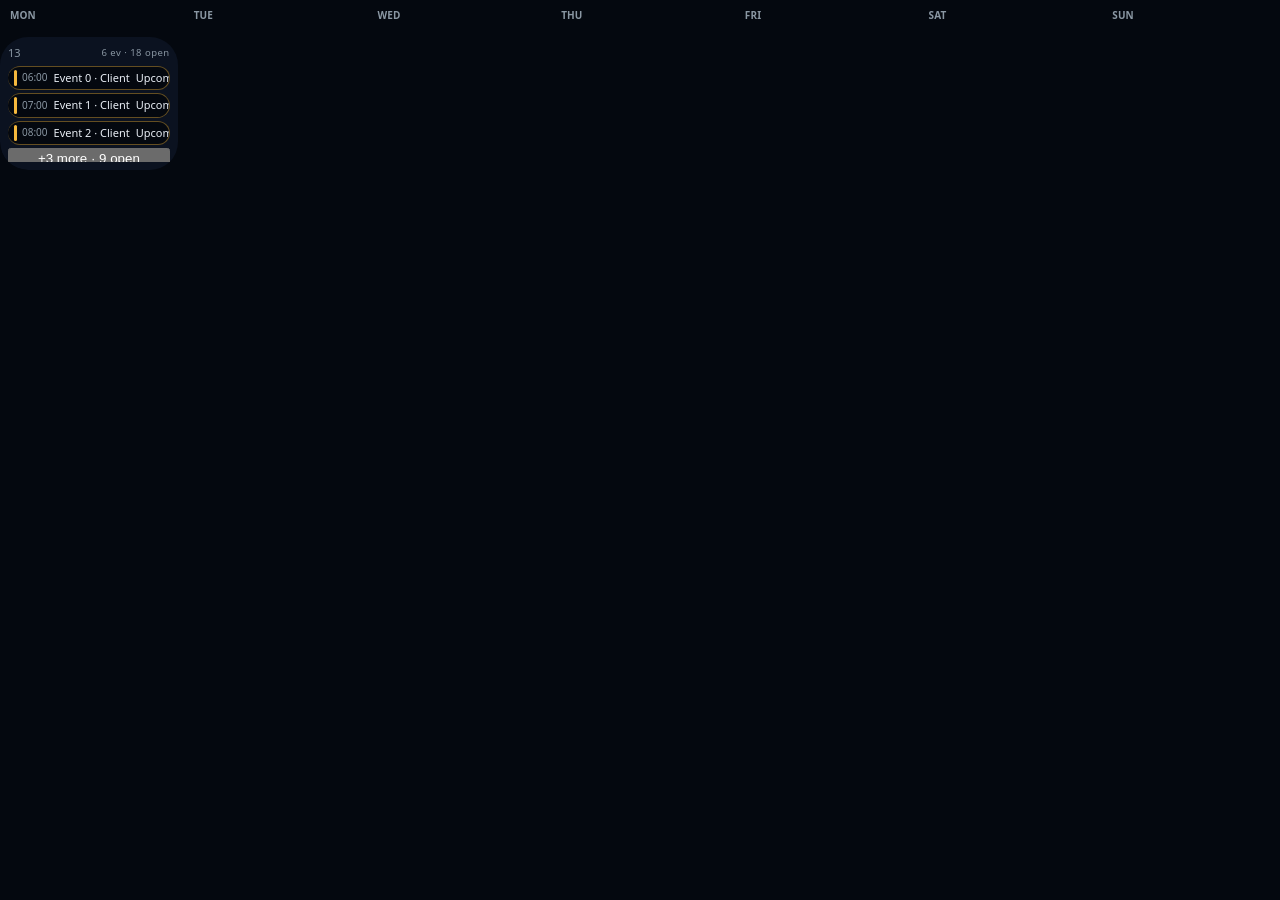
Test case: the day popup (ADR-0096) › with no day link offered, still lists the day and offers only Close
Click the button with class "evmore" at [89, 158], box left=8, top=148, right=170, bottom=169
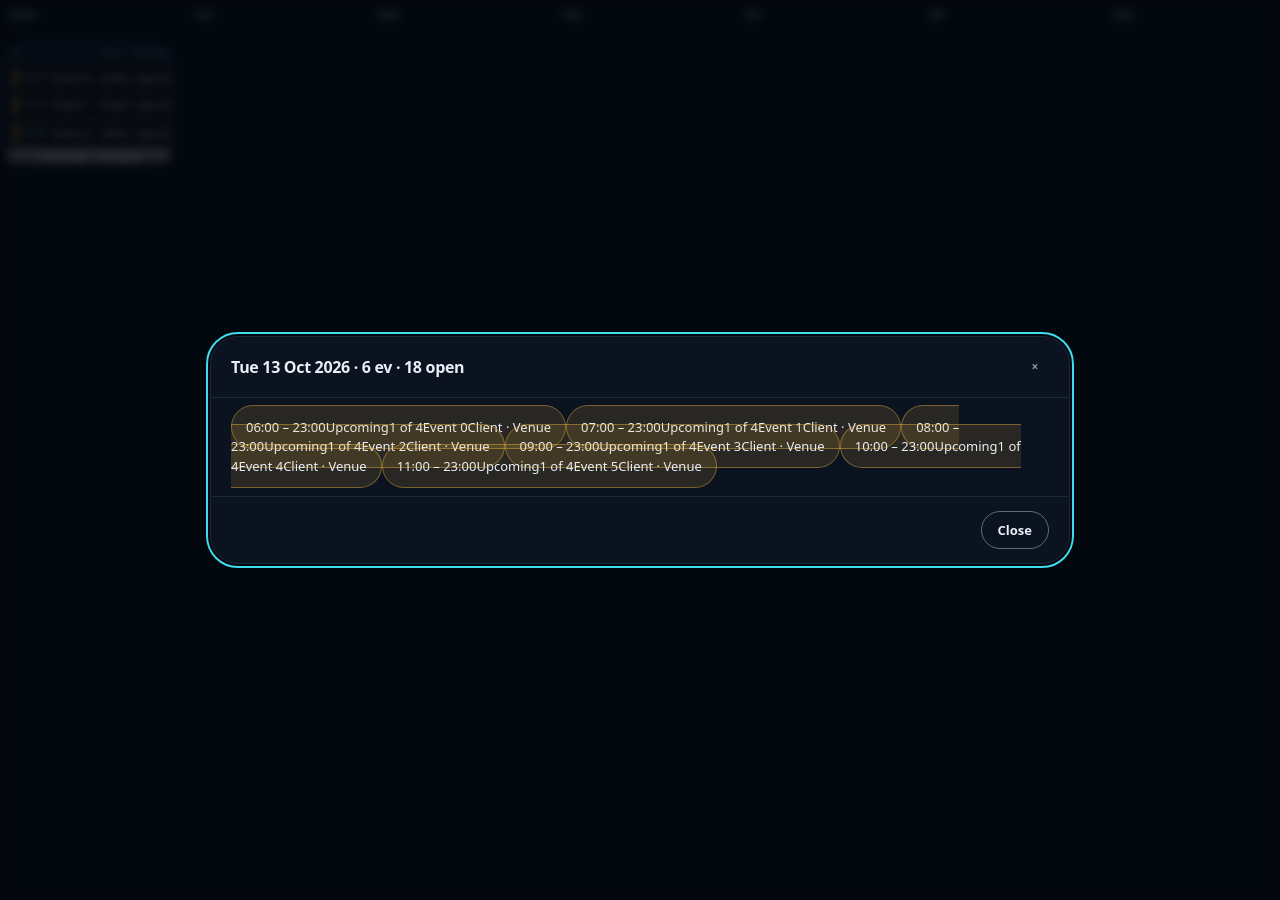
Expected: the number of links with class "wchip" is 6, left=231, top=405, right=566, bottom=449; left=566, top=405, right=901, bottom=449; left=231, top=405, right=959, bottom=468; left=505, top=424, right=840, bottom=468; left=231, top=424, right=1021, bottom=488; left=382, top=444, right=717, bottom=488
